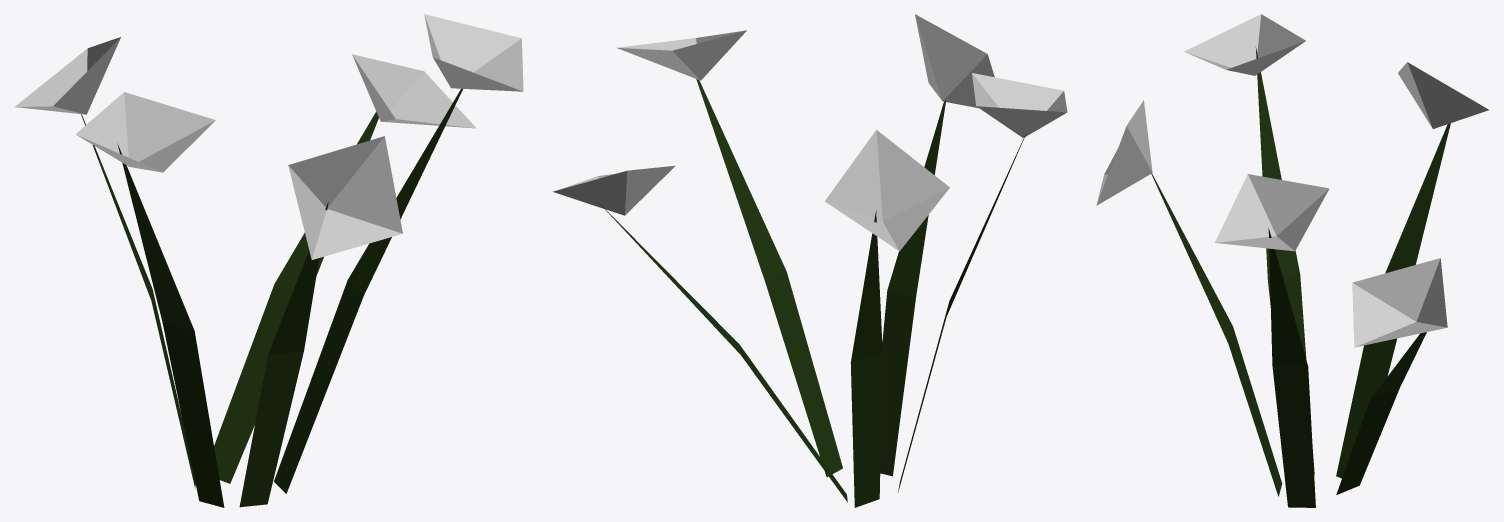
Rendered from Flowers_from_store.FBX.
3 views of the same model, side by side, from view 1: azimuth 30°, elevation 25°; view 2: azimuth 150°, elevation 25°; view 3: azimuth 270°, elevation 25° (orthographic). The views are drawn at different scales.
Parts seen in each view (by area): view 1: Flowers_from_store; view 2: Flowers_from_store; view 3: Flowers_from_store.
Part boxes in pixels (x1,y1,x2,y2): Flowers_from_store: (15,14,523,507); Flowers_from_store: (553,14,1067,507); Flowers_from_store: (1096,14,1488,507).
Size of the model in its own units: 10.68 by 9.57 by 8.49.
